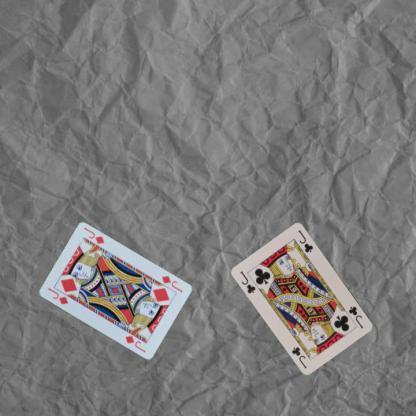Jc: (346, 304, 365, 330), (238, 268, 257, 294)
Jd: (44, 284, 70, 306), (159, 272, 183, 294)
